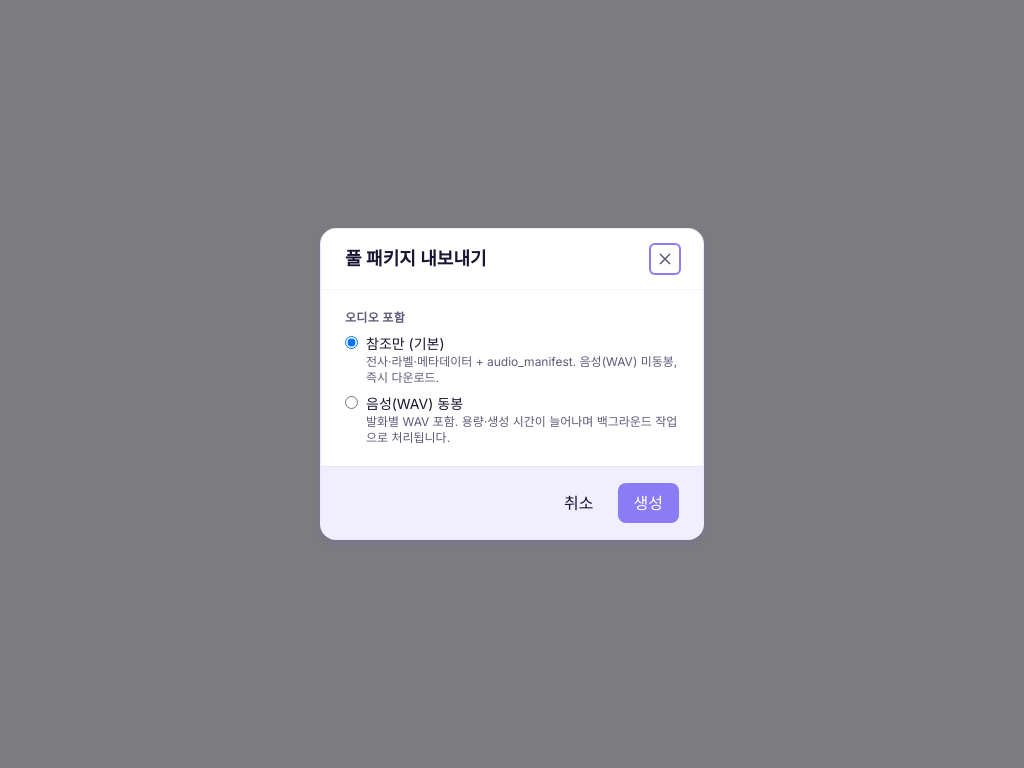
Test case: FullPackageExportModal embedded polling › stops polling and shows timeout after MAX_POLL_ATTEMPTS non-terminal polls
Click the radio button labelled "음성(WAV) 동봉 발화별 WAV 포함. 용량·생성 시간이 늘어나며 백그라운드 작업으로 처리됩니다.": (352, 402) [345,396,358,409]
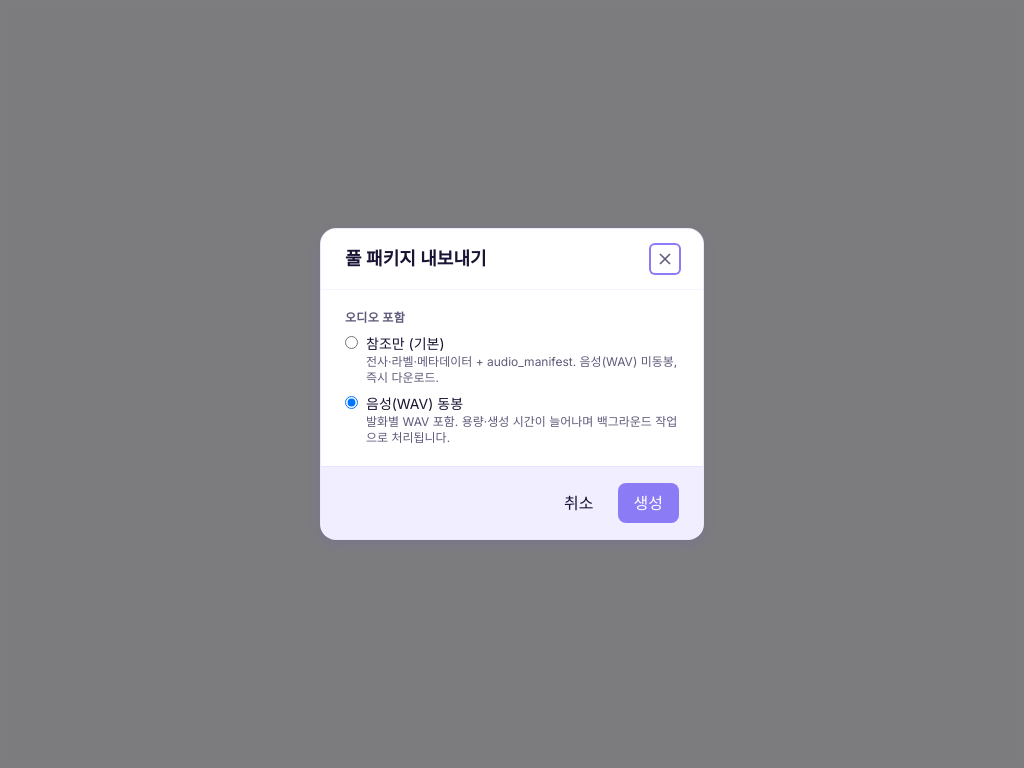
Click the button "생성": (648, 503) [618,483,679,523]
Wait 200000 ms
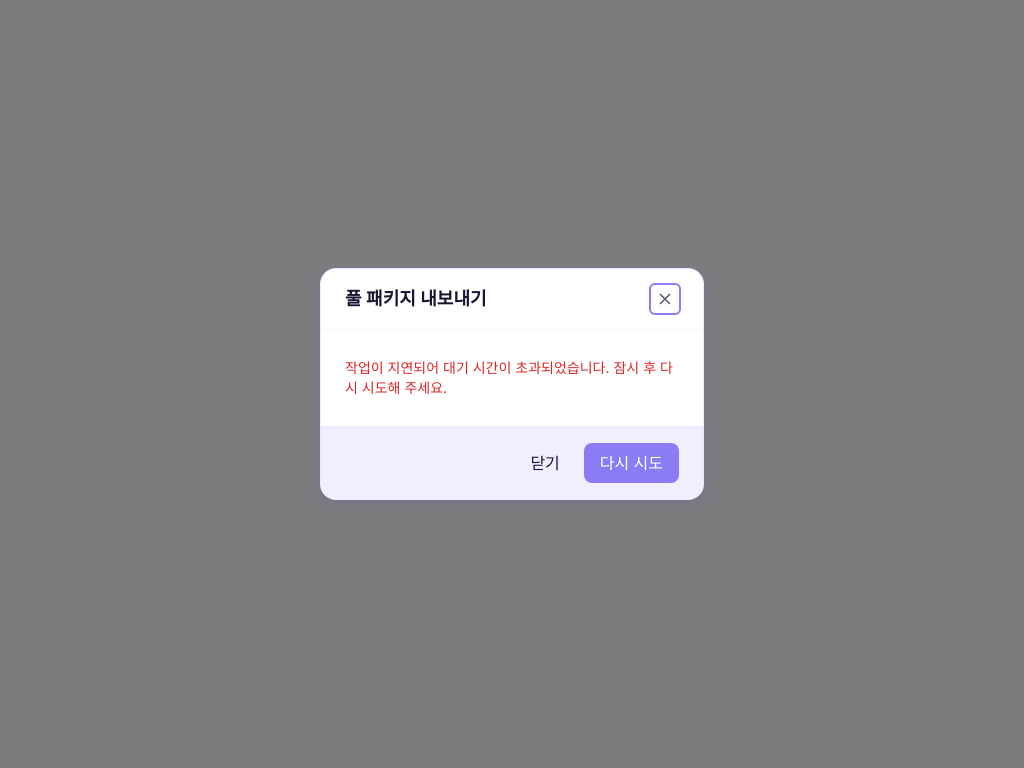
Now the text "작업이 지연되어 대기 시간이 초과되었습니다. 잠시 후 다시 시도해 주세요." is shown, box [345,350,679,406]
